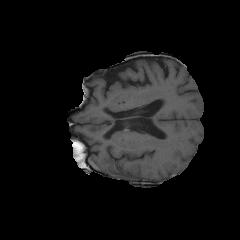glioma: (74, 142, 138, 179)
